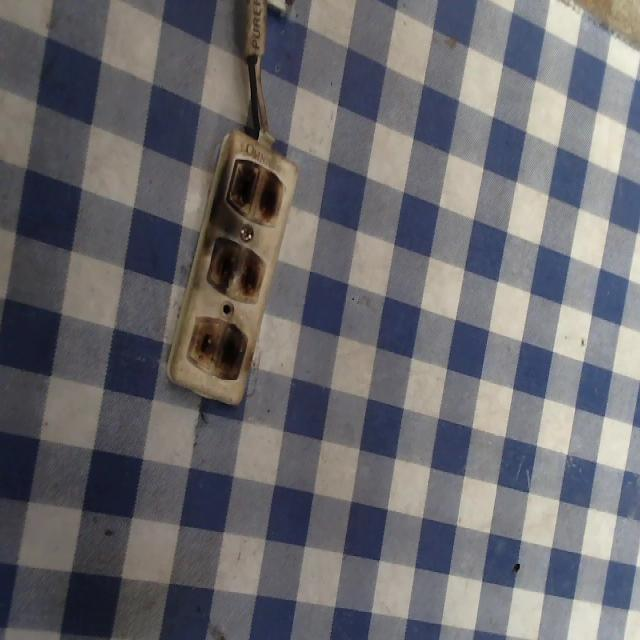-: (219, 156, 300, 229), (180, 312, 252, 383), (206, 236, 277, 307)
